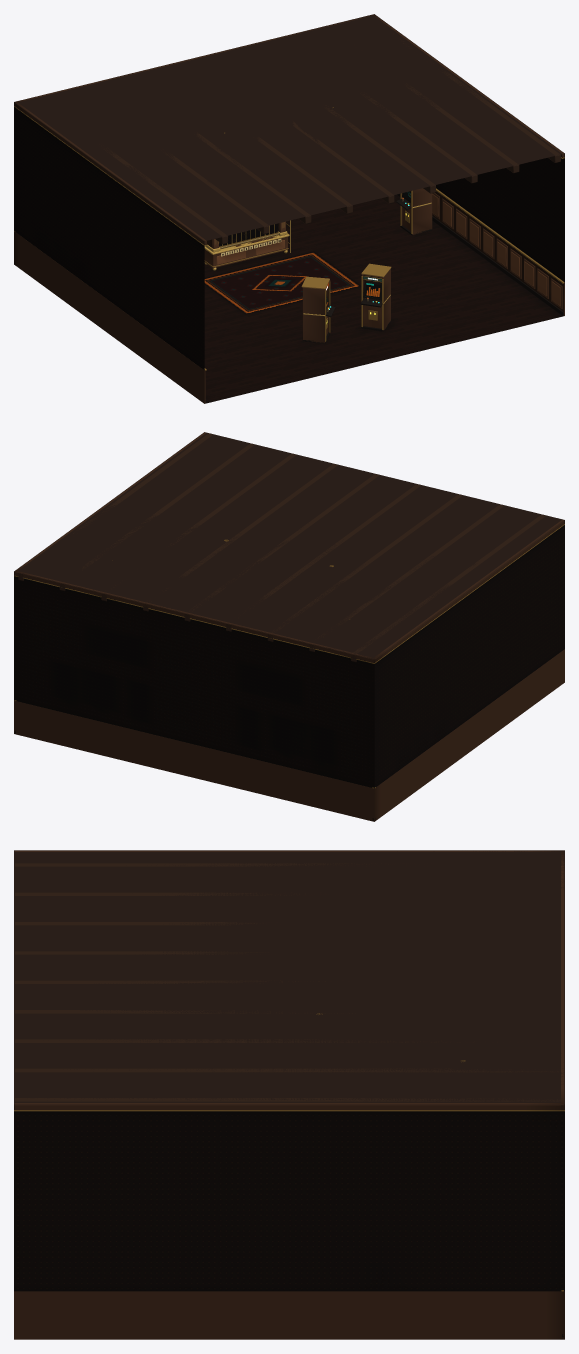
File: probability-arcade.glb
3 views of the same model, one above another, from view 1: azimuth 30°, elevation 25°; view 2: azimuth 150°, elevation 25°; view 3: azimuth 270°, elevation 25° (orthographic). The views are drawn at different scales.
Parts seen in each view (by area): view 1: set_ceil_noshadow, set_planks, set_wallpaper, set_walnut_dk, set_beam_noshadow, set_rug, set_cab_side, set_walnut, set_brass_dk, set_walnut_lt, set_black, set_brass; view 2: set_wallpaper, set_ceil_noshadow, set_walnut_dk, set_beam_noshadow, set_brass_dk; view 3: set_ceil_noshadow, set_wallpaper, set_walnut_dk, set_beam_noshadow, set_brass_dk.
Boxes of the visible parts, box(x1,y1,x2,y2) form: set_ceil_noshadow: box(14, 14, 564, 241); set_planks: box(204, 194, 562, 403); set_wallpaper: box(14, 102, 564, 370); set_walnut_dk: box(14, 14, 564, 403); set_beam_noshadow: box(99, 33, 560, 244); set_rug: box(204, 251, 361, 314); set_cab_side: box(302, 188, 432, 342); set_walnut: box(204, 192, 562, 335); set_brass_dk: box(14, 106, 564, 370); set_walnut_lt: box(216, 194, 560, 306); set_black: box(14, 193, 563, 403); set_brass: box(204, 202, 431, 316); set_wallpaper: box(14, 520, 564, 788); set_ceil_noshadow: box(14, 432, 564, 659); set_walnut_dk: box(14, 432, 564, 821); set_beam_noshadow: box(18, 433, 545, 661); set_brass_dk: box(14, 524, 564, 788); set_ceil_noshadow: box(14, 850, 564, 1104); set_wallpaper: box(14, 1104, 564, 1291); set_walnut_dk: box(14, 850, 564, 1339); set_beam_noshadow: box(15, 863, 560, 1101); set_brass_dk: box(14, 1013, 564, 1291).
Bounding box in the file's own units: 13 × 5.61 × 11.9.
45 materials, 17 textured.
